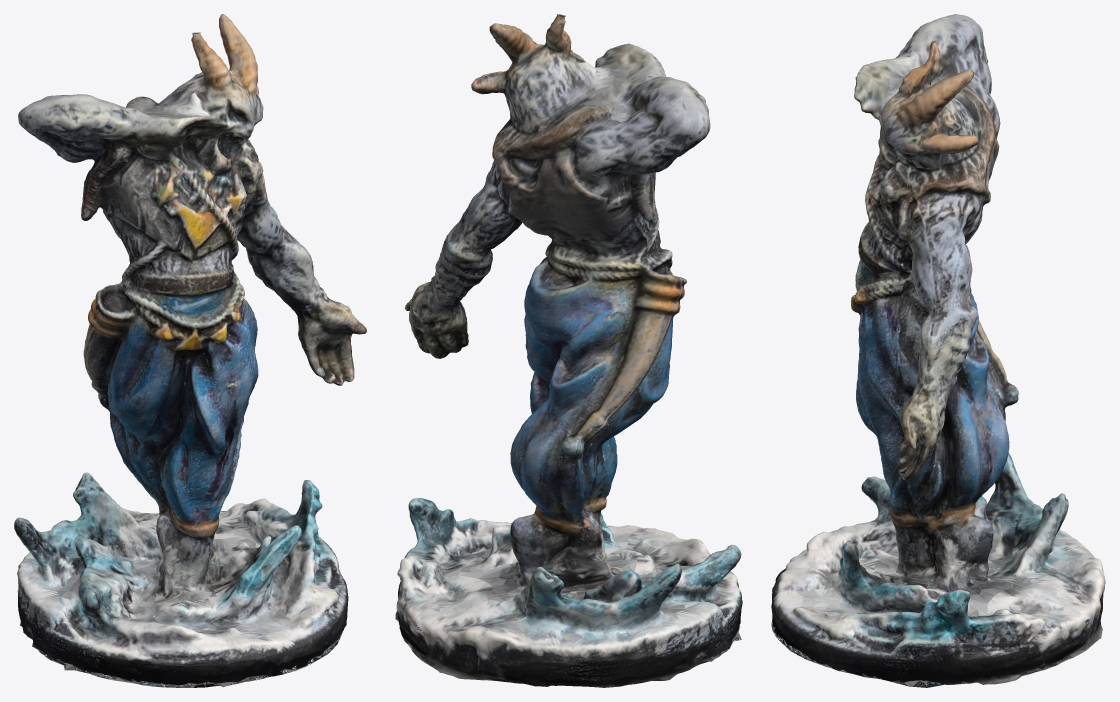
The model's file is Snowflake.glb.
The picture shows the model from 3 angles, left to right: view 1: azimuth 30°, elevation 25°; view 2: azimuth 150°, elevation 25°; view 3: azimuth 270°, elevation 25°; orthographic projection. The views are drawn at different scales.
Visible parts, largest first — view 1: snowdancer; view 2: snowdancer; view 3: snowdancer.
Boxes of the visible parts, box(x1,y1,x2,y2) form: snowdancer: box(14, 14, 366, 687); snowdancer: box(395, 14, 742, 687); snowdancer: box(771, 14, 1105, 687).
Size of the model in its own units: 5.37 by 9.36 by 4.88.
Materials: 1 (1 with a texture image).
